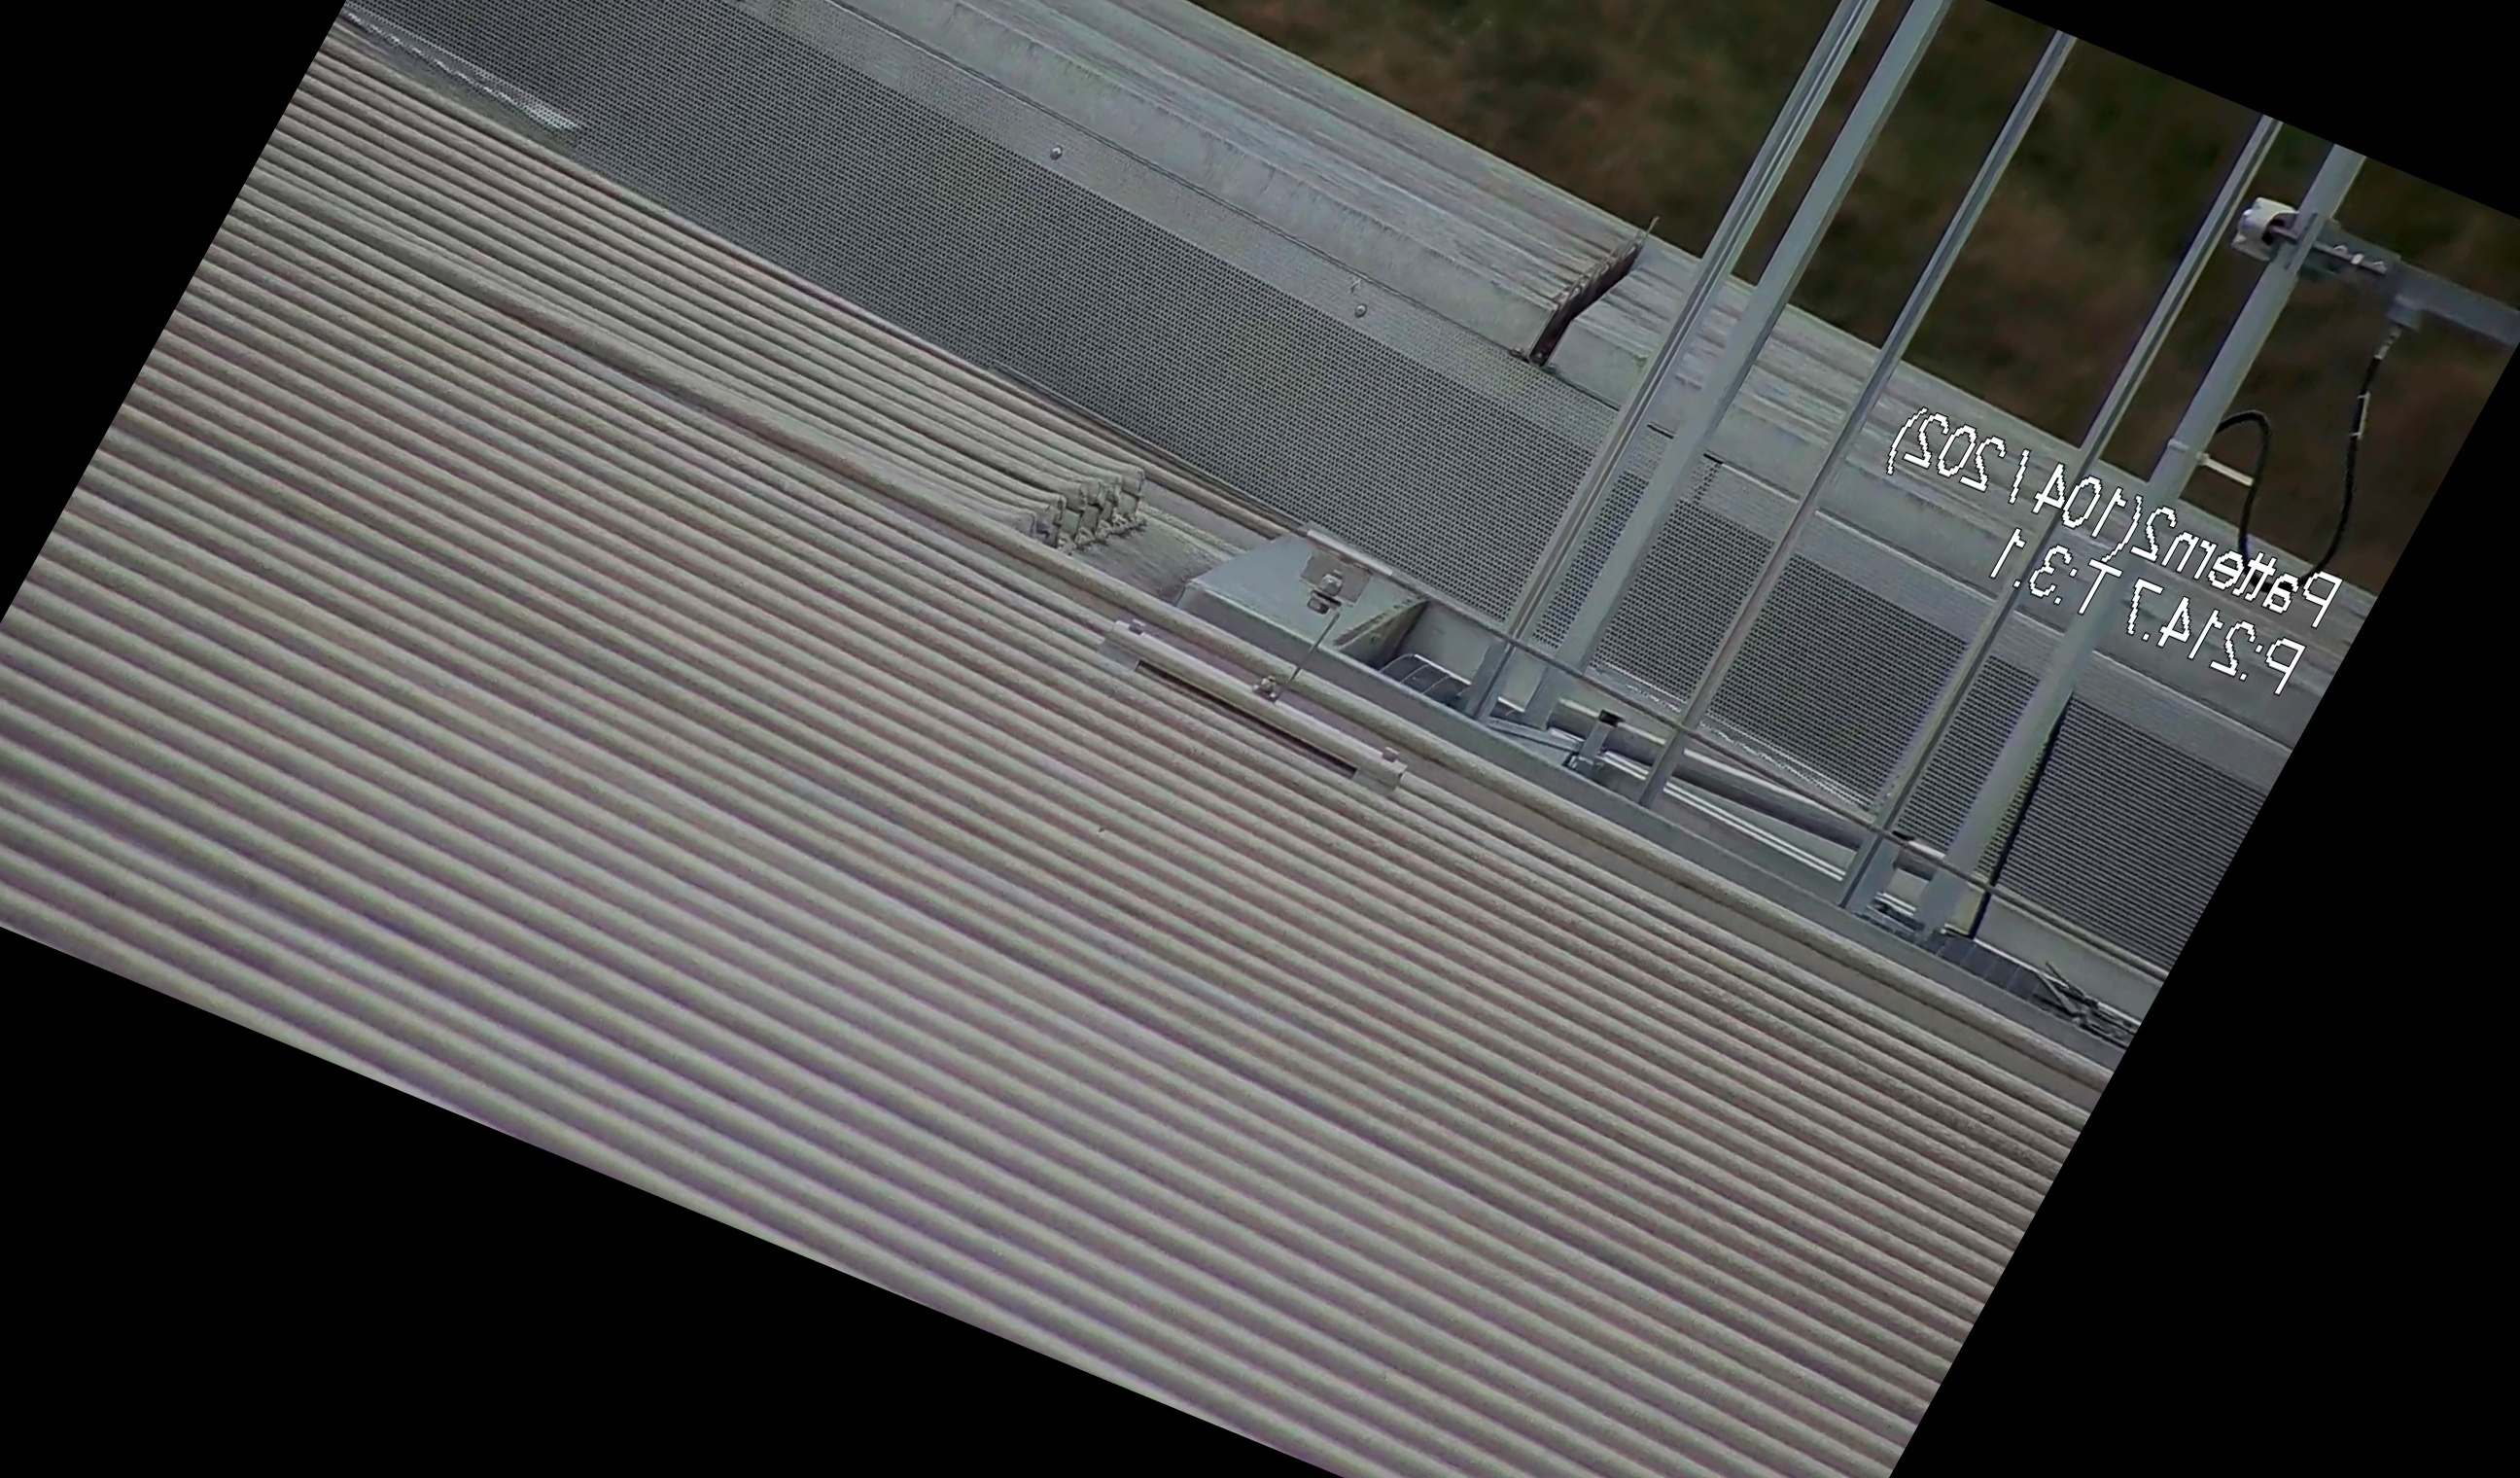Other: (1509, 179, 1688, 391)
